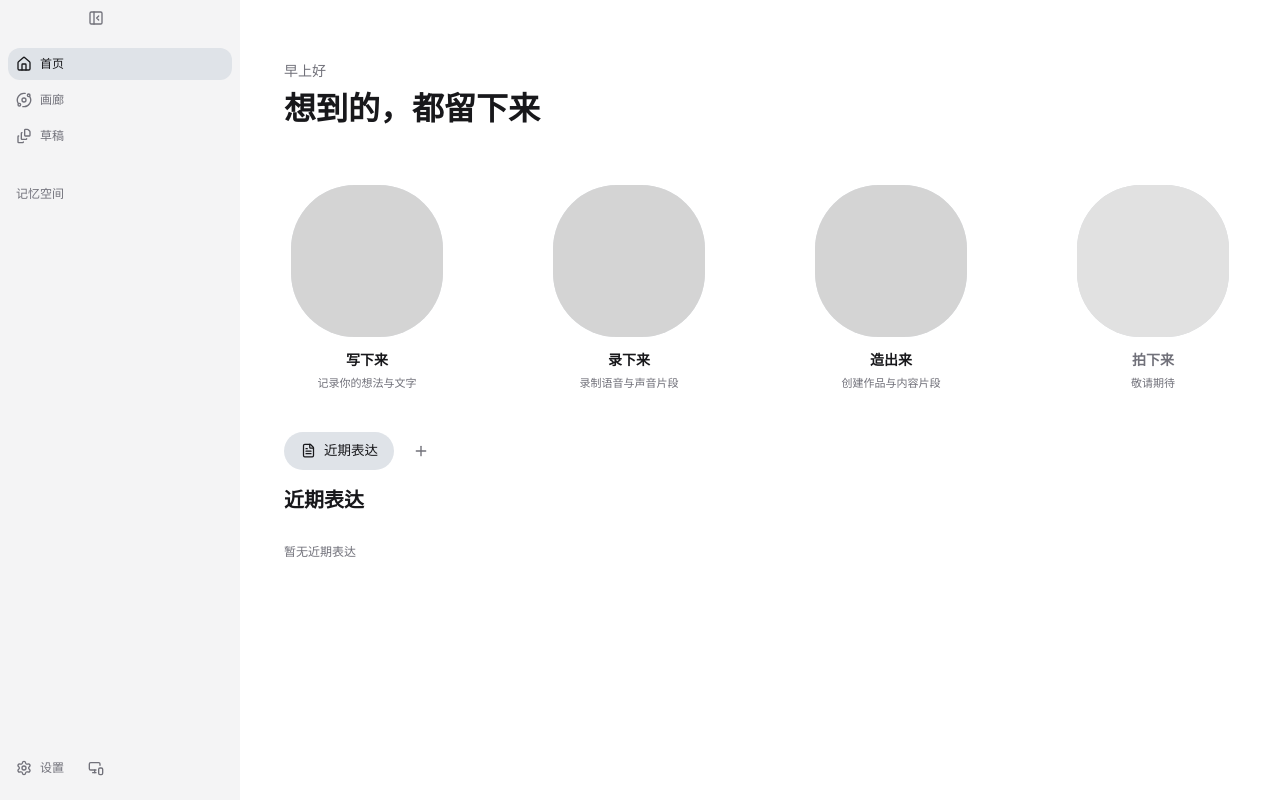
Test: App › opens Home 写下来 directly in the system Draft default Memory note flow
The width and height of the screenshot is (1280, 800).
Click the button "写下来 记录你的想法与文字". click: {"x": 367, "y": 288}
box: x1=280 y1=185 x2=454 y2=392
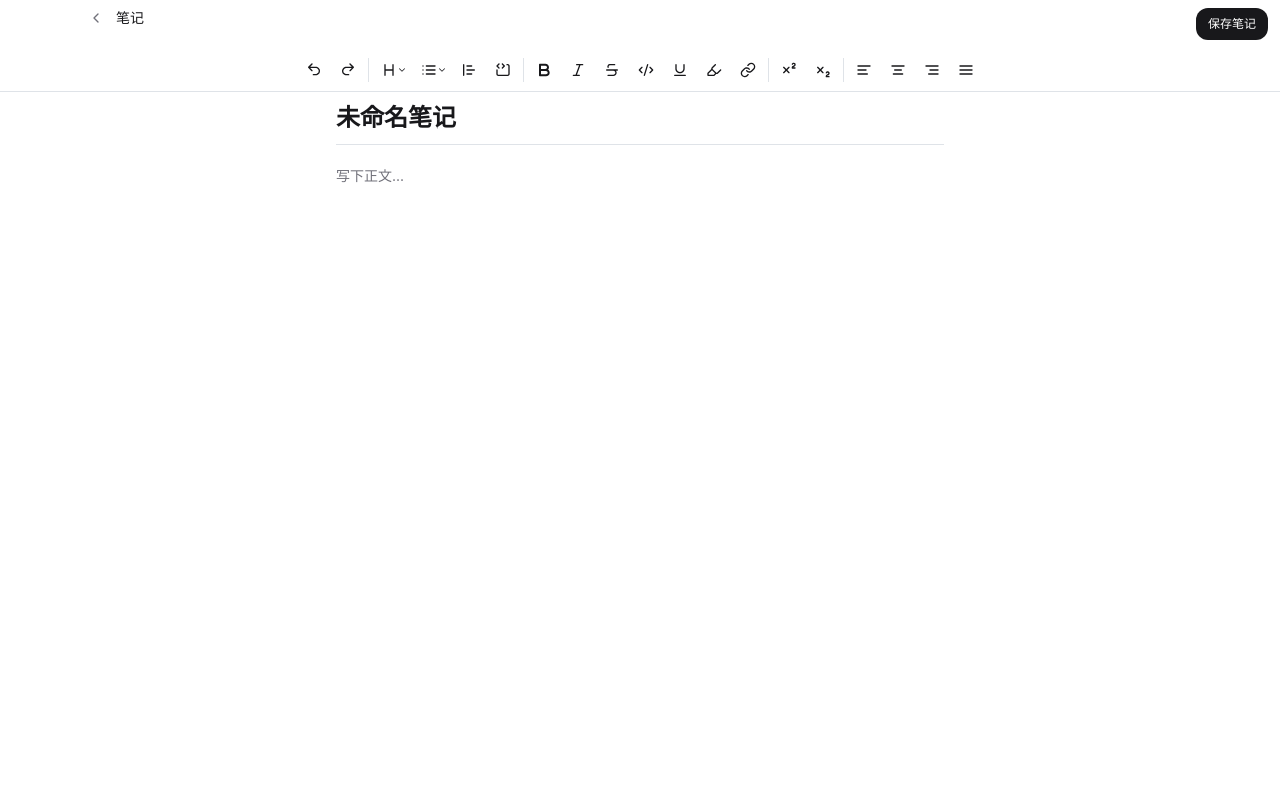
Expected: the dialog "笔记" is shown
Expected: the field named "笔记正文" is shown, x1=336 y1=165 x2=944 y2=187
